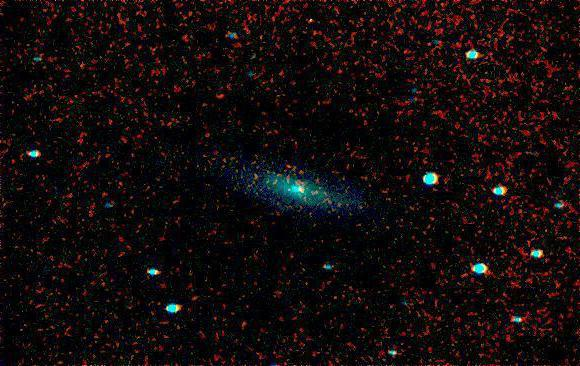star: (274, 174, 304, 204)
